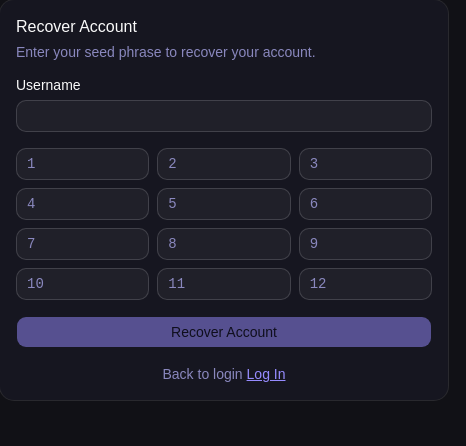
Test: RecoverPage › step 1 submit with MnemonicError shows invalid mnemonic error
Type "testuser" into the field labelled "Username" at x=224, y=116, box 16,100 -> 432,132
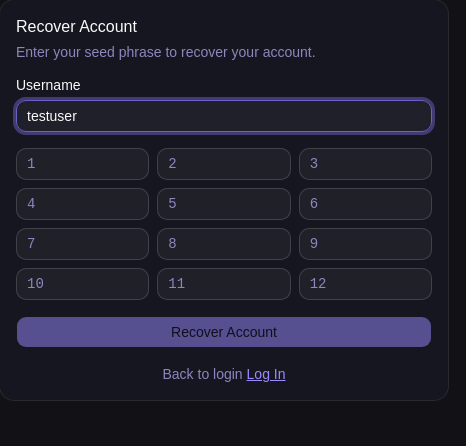
Click the field with placeholder "1" at x=83, y=164, box 16,148 -> 149,180
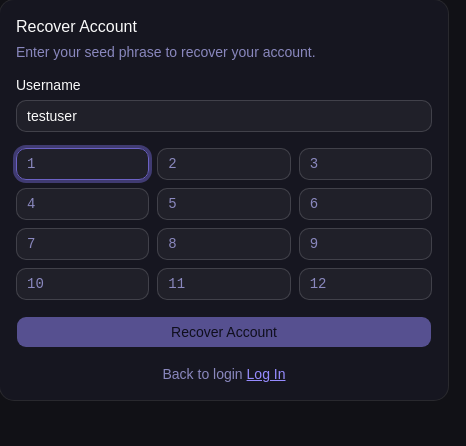
Type keys "abandon ability able about above absent absorb abstract absurd abuse access accident"
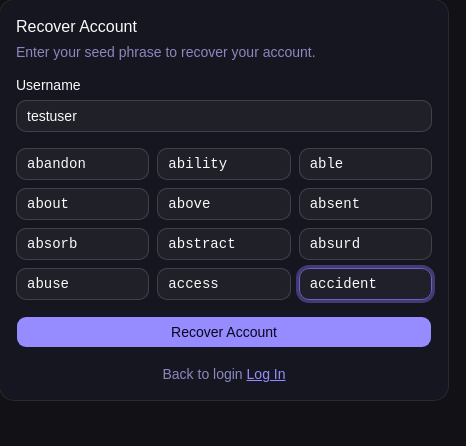
Now the button "Recover Account" is enabled
Click the button "Recover Account" at x=224, y=332, box 16,316 -> 432,348
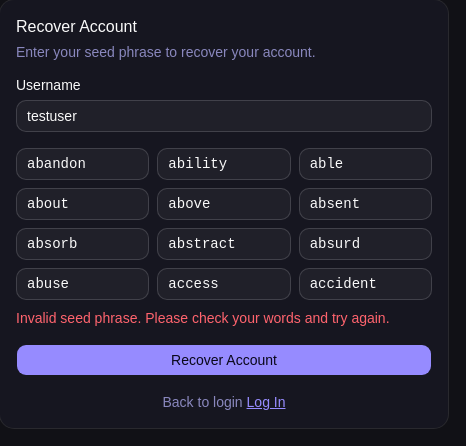
Now the text "Invalid seed phrase. Please check your words and try again." is shown, box 16,308 -> 432,328
